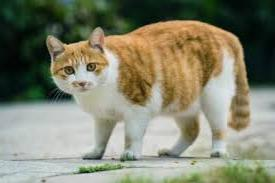animals: (31, 20, 252, 163)
